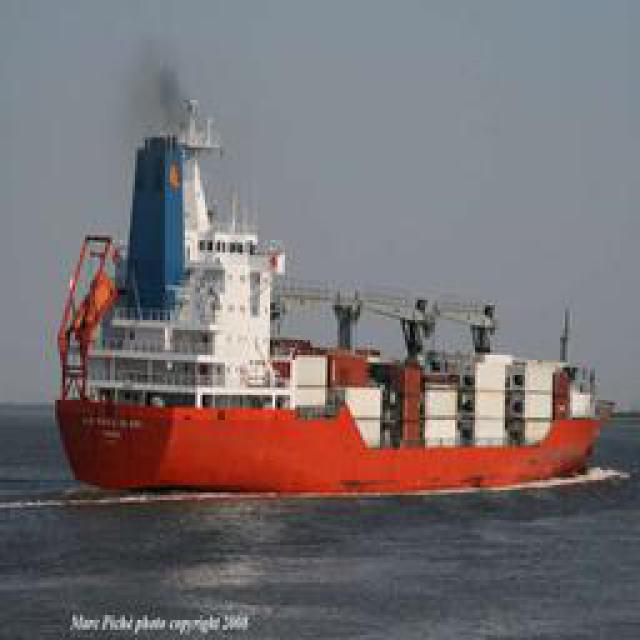Ship: (50, 252, 610, 505)
